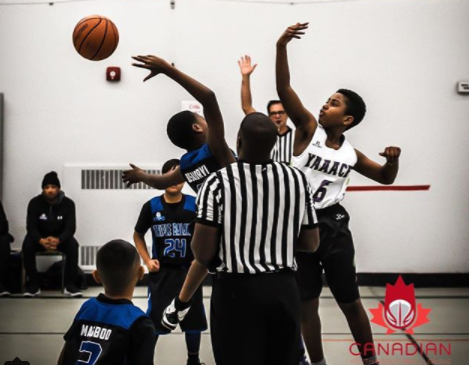ball: (71, 14, 121, 61)
player: (277, 19, 409, 365), (191, 115, 321, 365), (131, 159, 213, 365), (128, 54, 239, 199), (58, 240, 157, 365)
